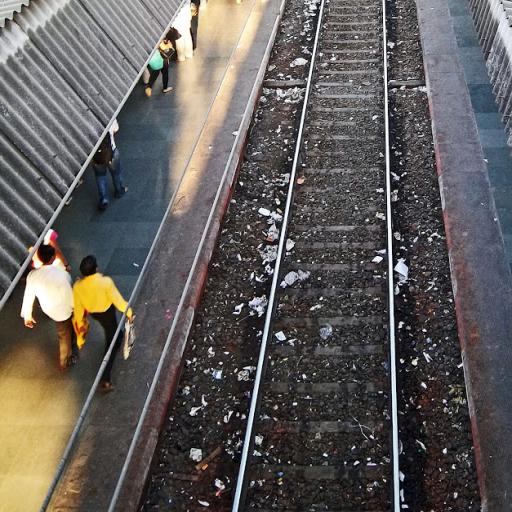platform_edge: (51, 355, 186, 512), (145, 172, 249, 328), (208, 8, 290, 148)
